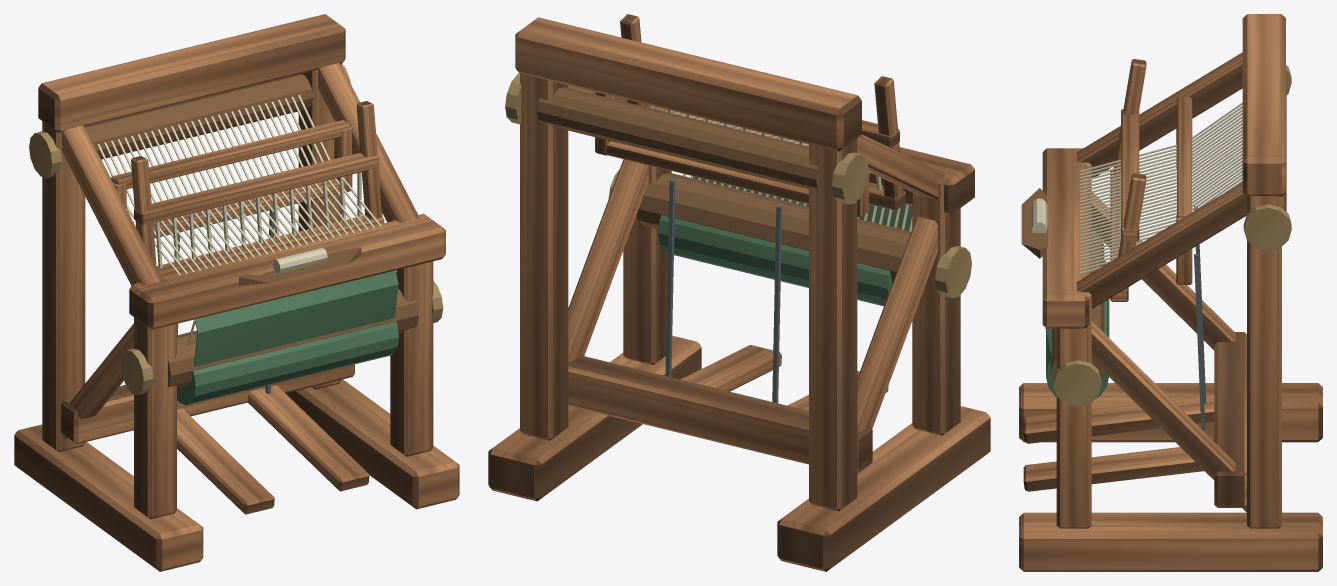
The model's file is loom.glb.
3 views of the same model, side by side, from view 1: azimuth 30°, elevation 25°; view 2: azimuth 150°, elevation 25°; view 3: azimuth 270°, elevation 25° (orthographic). The views are drawn at different scales.
Visible parts, largest first — view 1: Loom_StaticFrame, Loom_Beater_Swing, Loom_Heddle_Lift; view 2: Loom_StaticFrame, Loom_Heddle_Lift, Loom_Beater_Swing; view 3: Loom_StaticFrame, Loom_Beater_Swing, Loom_Heddle_Lift.
Part boxes in pixels (<box>): Loom_StaticFrame: <box>14,14,459,571</box>; Loom_Beater_Swing: <box>131,101,384,277</box>; Loom_Heddle_Lift: <box>111,120,352,238</box>; Loom_StaticFrame: <box>488,17,990,571</box>; Loom_Heddle_Lift: <box>595,92,869,217</box>; Loom_Beater_Swing: <box>620,14,905,210</box>; Loom_StaticFrame: <box>1019,14,1322,571</box>; Loom_Beater_Swing: <box>1110,59,1146,301</box>; Loom_Heddle_Lift: <box>1176,97,1192,284</box>.
Size of the model in its own units: 1.09 by 1.36 by 0.91.
Materials: 6 (3 with a texture image).
